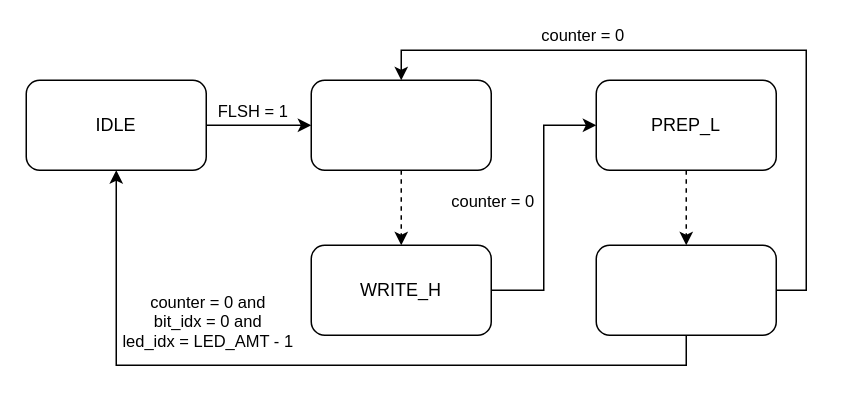
Image size: 845x404. Some labels were removed from this diagram. Each missing label, with the box of its shape:
PREP_H: (310, 79, 491, 170)
WRITE_L: (595, 244, 776, 335)
